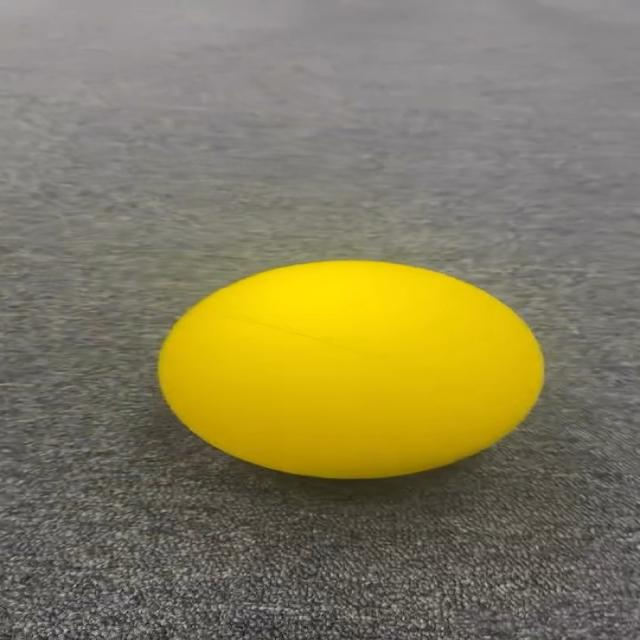Fuels: (155, 257, 540, 474)
